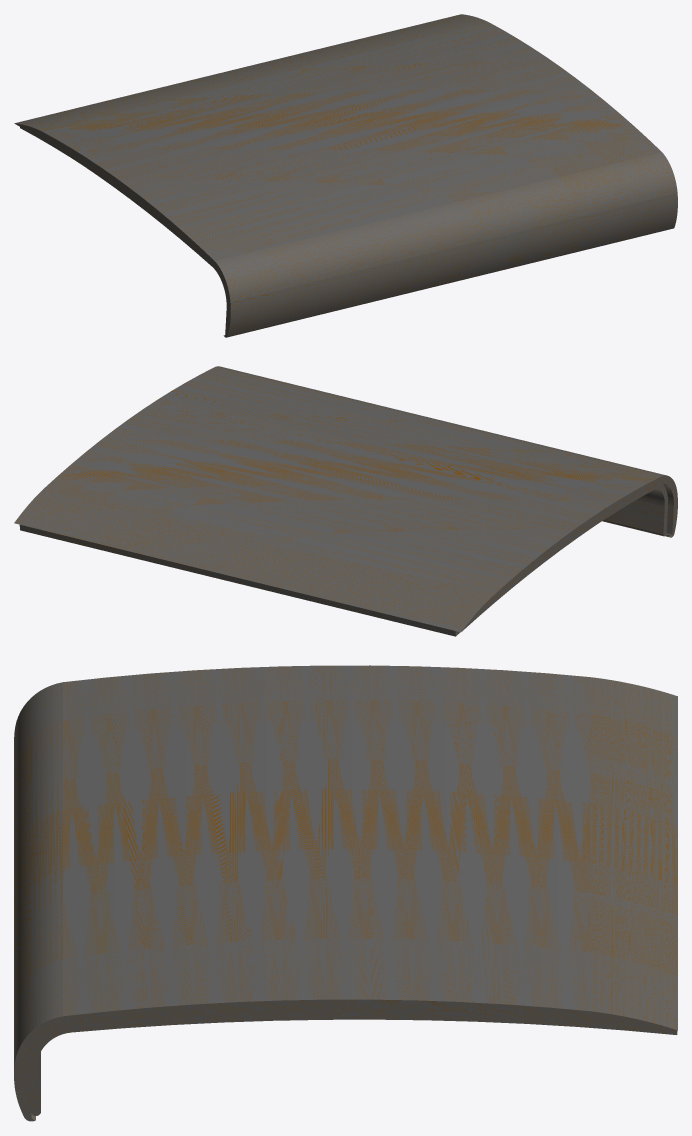
File: original-19.obj
3 views of the same model, one above another, from view 1: azimuth 30°, elevation 25°; view 2: azimuth 150°, elevation 25°; view 3: azimuth 270°, elevation 25° (orthographic). The views are drawn at different scales.
Parts seen in each view (by area): view 1: Group9/mesh28/mesh28-geometry#mesh28-geometry; view 2: Group9/mesh28/mesh28-geometry#mesh28-geometry; view 3: Group9/mesh28/mesh28-geometry#mesh28-geometry.
Boxes of the visible parts, box(x1,y1,x2,y2) form: Group9/mesh28/mesh28-geometry#mesh28-geometry: box(14, 14, 677, 337); Group9/mesh28/mesh28-geometry#mesh28-geometry: box(14, 366, 677, 636); Group9/mesh28/mesh28-geometry#mesh28-geometry: box(14, 665, 677, 1121).
Size of the model in its own units: 0.7936 by 0.135 by 0.6664.
